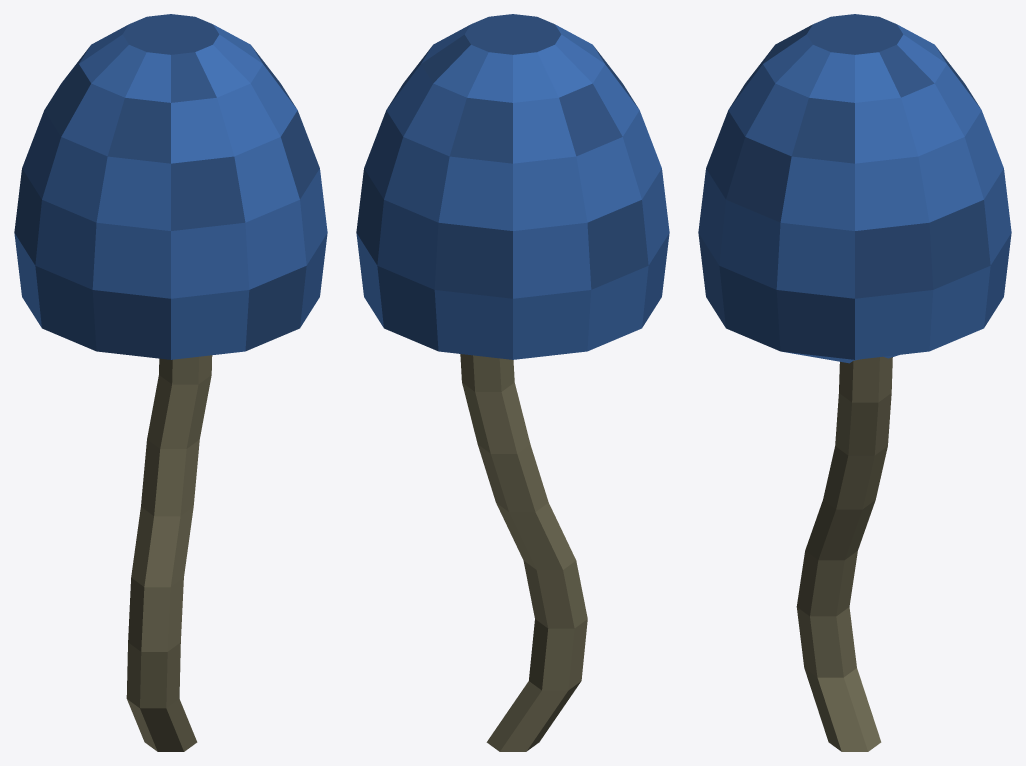
File: Mushroom_2_Blue.fbx
The picture shows the model from 3 angles, left to right: view 1: azimuth 30°, elevation 25°; view 2: azimuth 150°, elevation 25°; view 3: azimuth 270°, elevation 25°; orthographic projection.
Parts seen in each view (by area): view 1: Mushroom_2_Blue; view 2: Mushroom_2_Blue; view 3: Mushroom_2_Blue.
Part boxes in pixels (x1,y1,x2,y2): Mushroom_2_Blue: (14, 14, 327, 751); Mushroom_2_Blue: (356, 14, 669, 751); Mushroom_2_Blue: (698, 14, 1011, 751).
Bounding box in the file's own units: 11.86 × 29.58 × 11.86.
